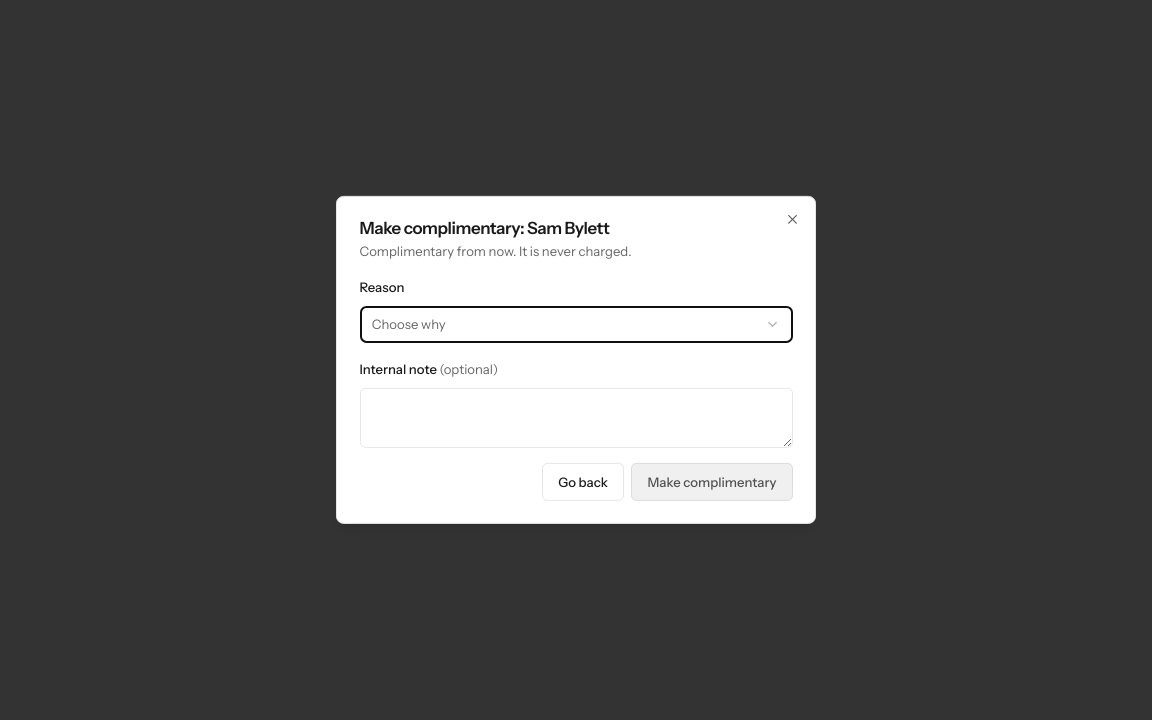
Test: SubscriptionActionDialog › requires a reason before anything is changed
Expected: the button "Make complimentary" is disabled, [632,463,792,501]
Click the dropdown named "Reason": (409, 324) [360,306,792,343]
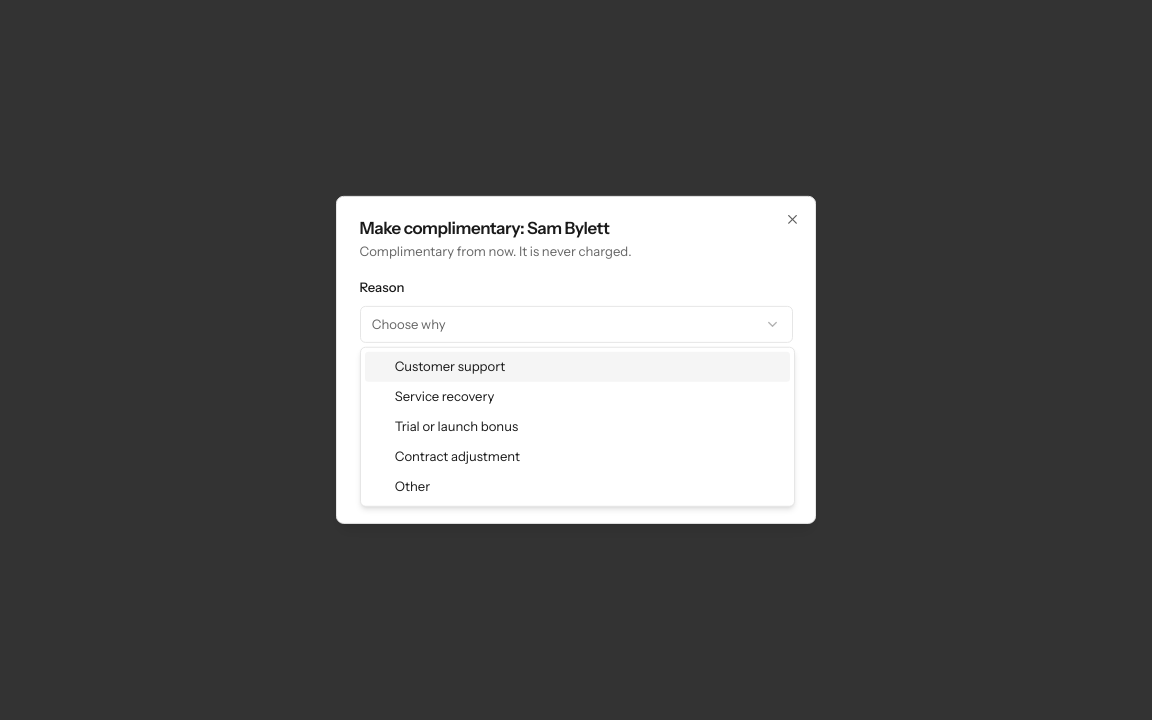
Click the option "Customer support": (450, 366) [365,352,790,382]
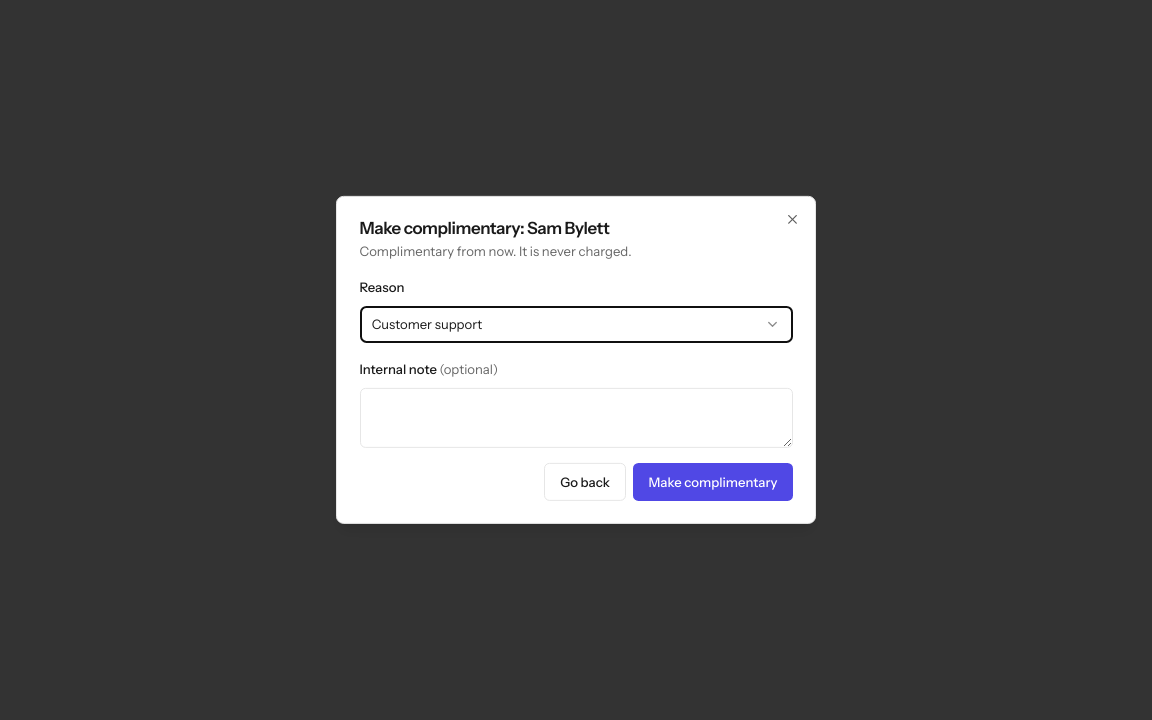
Expected: the button "Make complimentary" is enabled, [634,463,792,501]
